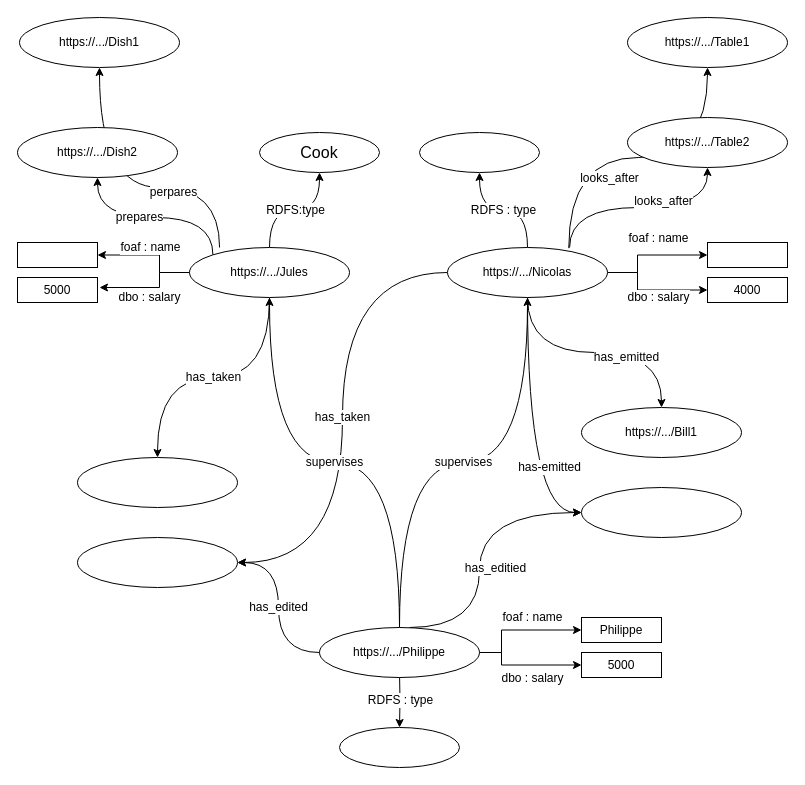
Some shapes in this 805 by 785 pixel diagram are drawn without their labels. Here are the shapes that lost their labels. From the top down, the centre of each, then its label:
(479,152): Waiter
(57,255): Jules
(747,255): Nicolas
(157,482): https://.../Reservation1
(661,512): https://.../Bill2
(157,562): https://.../Reservation2
(399,747): Manager
